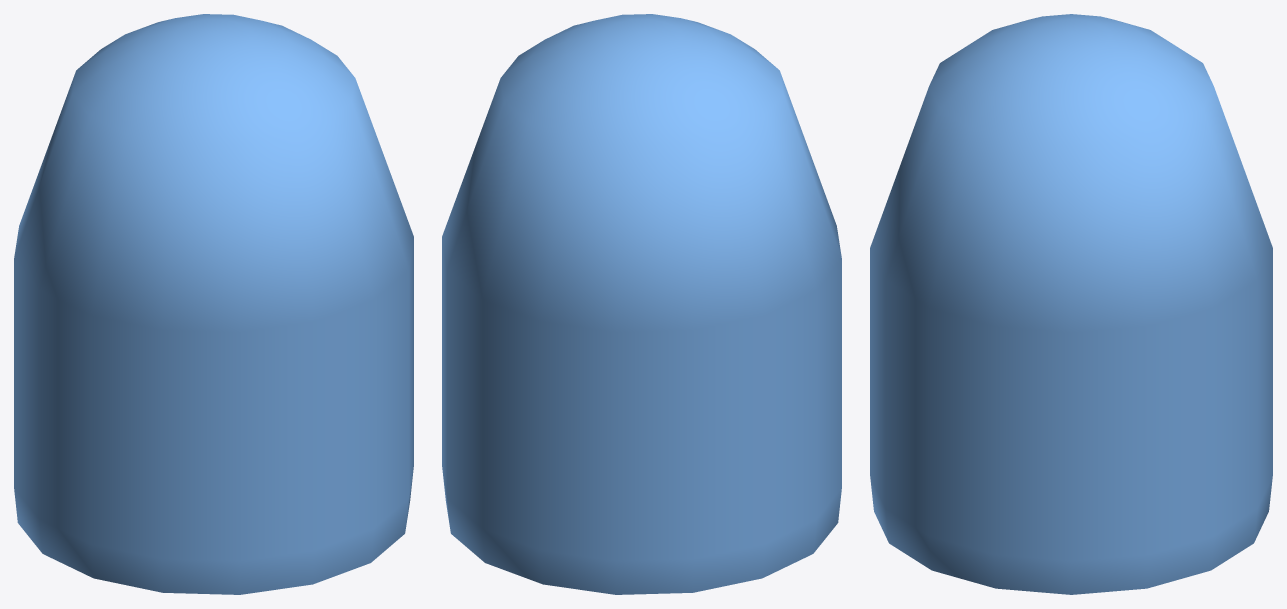
The model's file is human.glb.
3 views of the same model, side by side, from view 1: azimuth 30°, elevation 25°; view 2: azimuth 150°, elevation 25°; view 3: azimuth 270°, elevation 25° (orthographic).
Parts seen in each view (by area): view 1: human-node; view 2: human-node; view 3: human-node.
Part boxes in pixels (x1,y1,x2,y2): human-node: [14, 14, 413, 594]; human-node: [442, 14, 841, 594]; human-node: [870, 14, 1272, 594].
Bounding box in the file's own units: 1.4 × 1.84 × 1.4.
